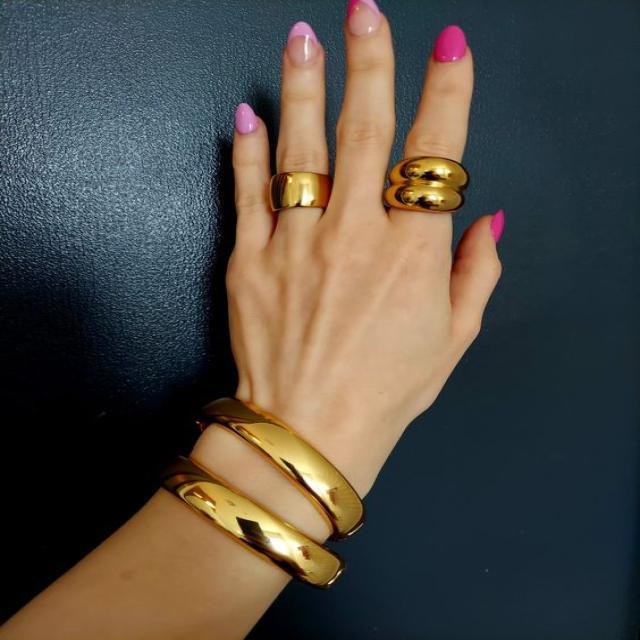Fingernail: (287, 23, 319, 65), (348, 0, 380, 37), (435, 26, 466, 61), (236, 104, 257, 133), (491, 210, 504, 239)
